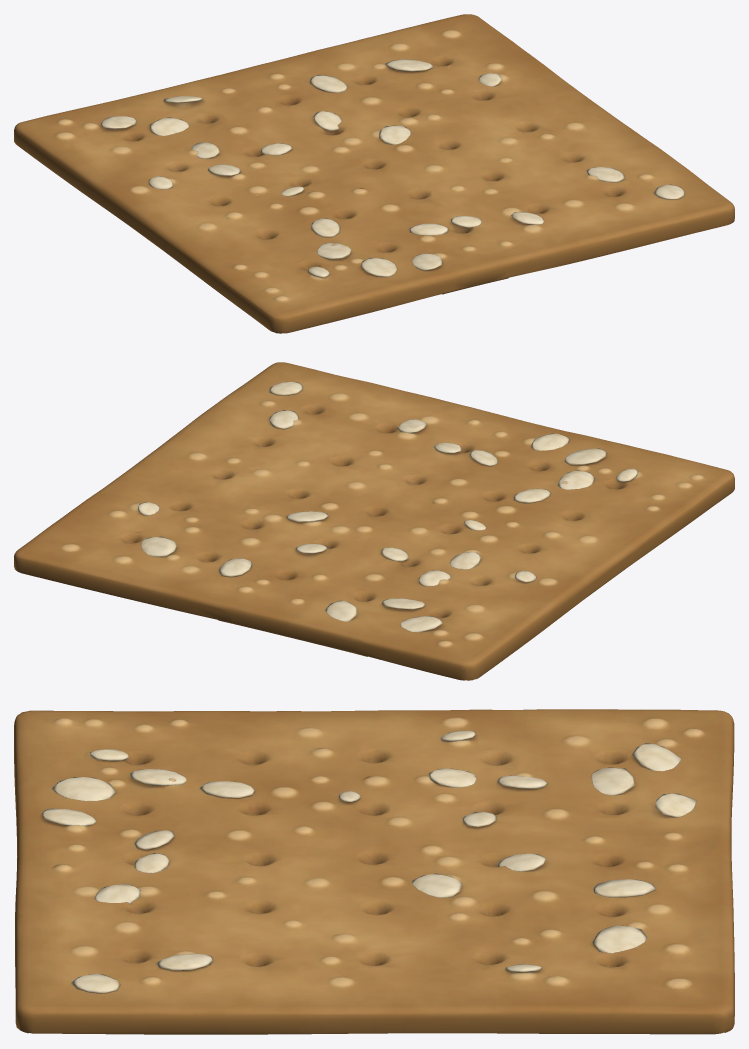
File: cracker--oat-flake.glb
3 renders of one model, top to bottom at view 1: azimuth 30°, elevation 25°; view 2: azimuth 150°, elevation 25°; view 3: azimuth 270°, elevation 25°, orthographic. The views are drawn at different scales.
Parts seen in each view (by area): view 1: cracker_oat-flake; view 2: cracker_oat-flake; view 3: cracker_oat-flake.
Boxes of the visible parts, left/top/right/bottom form: cracker_oat-flake: left=14, top=14, right=734, bottom=333; cracker_oat-flake: left=14, top=362, right=734, bottom=680; cracker_oat-flake: left=14, top=709, right=734, bottom=1034.
Bounding box in the file's own units: 1.01 × 0.0488 × 1.
Materials: 1 (1 with a texture image).
